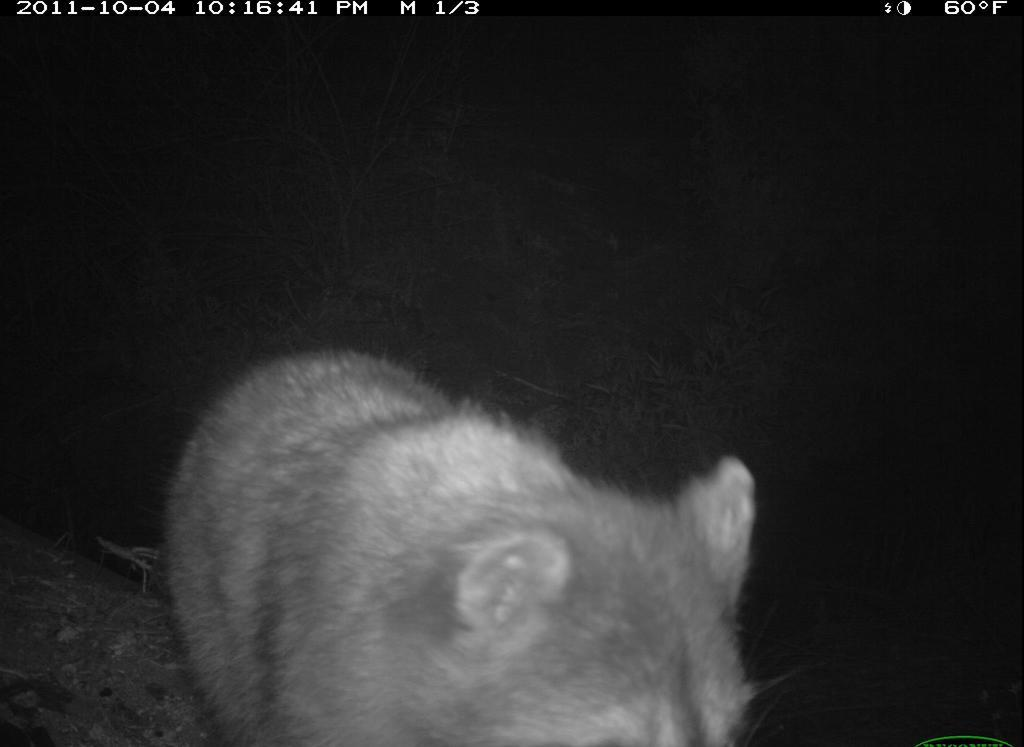raccoon: (166, 329, 781, 747)
